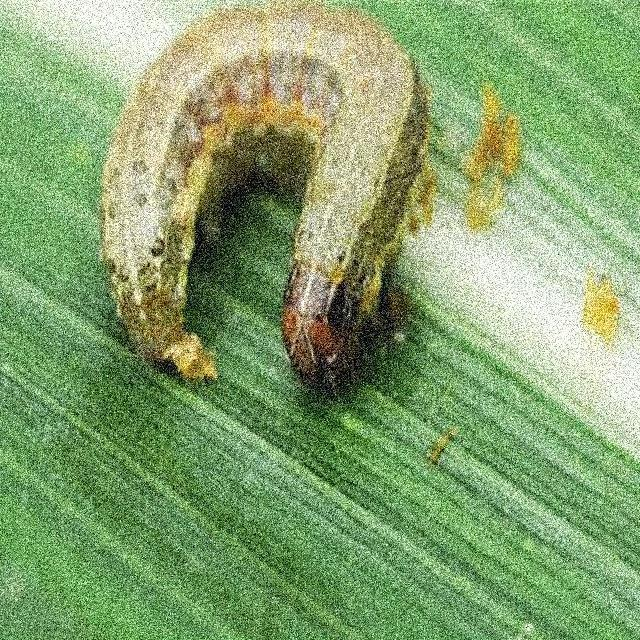gusano_cogollero: (92, 0, 432, 389)
